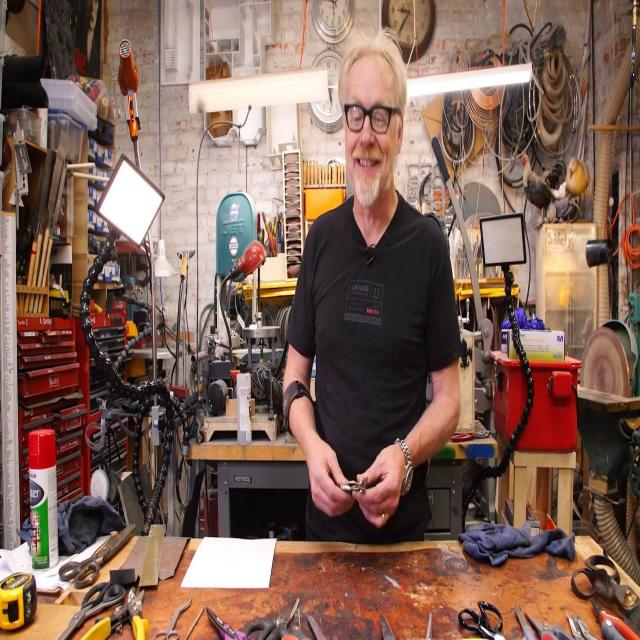scissor: (571, 552, 640, 640), (58, 523, 136, 590), (56, 581, 126, 640), (244, 596, 299, 640), (458, 600, 506, 640), (206, 605, 255, 640), (155, 595, 192, 640), (525, 610, 575, 640), (279, 607, 311, 640), (516, 602, 538, 640), (338, 477, 368, 492)
